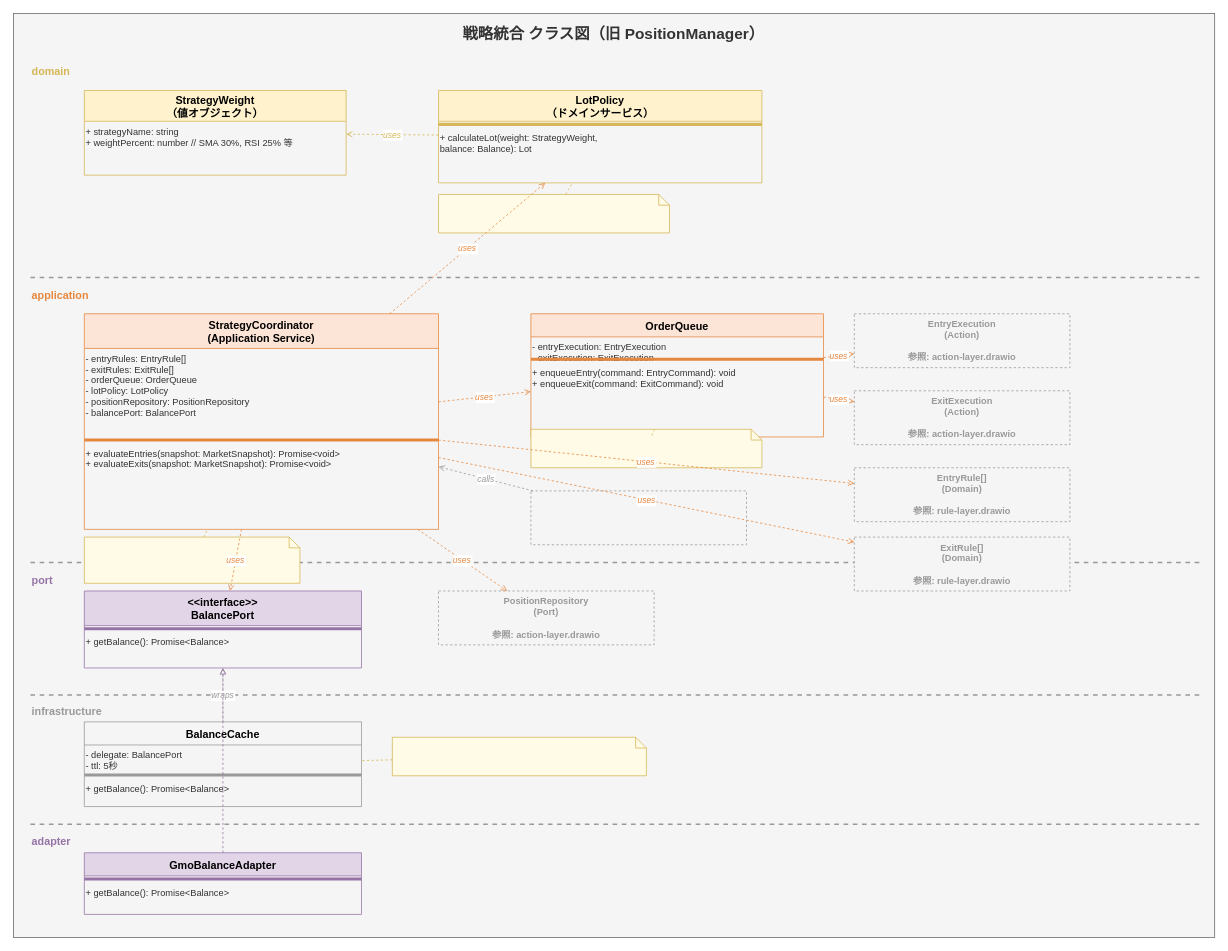
The diagram is 1228 pixels wide and 951 high, and some of its shapes have lost their labels. The shapes that lost their labels are listed below. From the top down, each one's centre as x and y in pixels, then its label:
At [554,213]: "口座残高と戦略ウェイトからロットを計算する ドメインのビジネスルール".
At [646,448]: "GMO API の POST 1秒1回制限があるため、 エントリーも決済も1つのキューで 1つずつ順番に処理する。 決済は優先度を高くする".
At [638,517]: "TradingSession (Application) 参照: trading-session.drawio".
At [192,559]: "4戦略の交通整理役 どの戦略が発火したかを判断し、 ロット計算 → キュー投入まで行う".
At [519,756]: "残高APIを毎回叩くと遅いので5秒間キャッシュする API障害時はCAPITAL環境変数をフォールバック".
